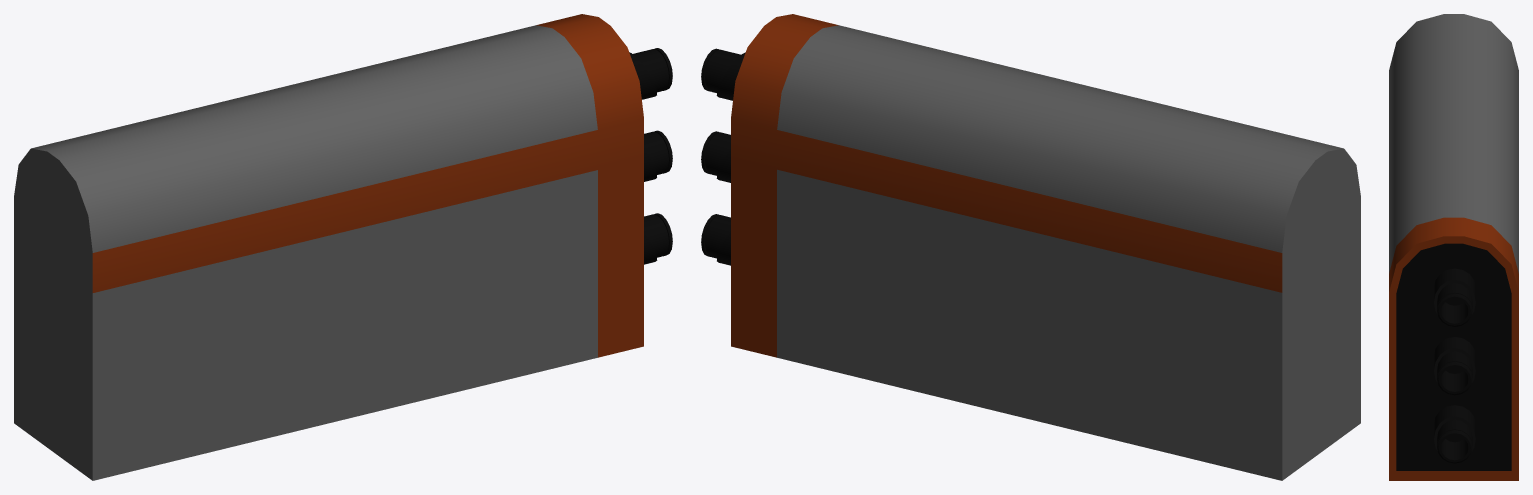
The model's file is Barrel_AR_1.obj.
The picture shows the model from 3 angles, left to right: view 1: azimuth 30°, elevation 25°; view 2: azimuth 150°, elevation 25°; view 3: azimuth 270°, elevation 25°; orthographic projection. The views are drawn at different scales.
Parts seen in each view (by area): view 1: Barrel_AR_1_Cube.239; view 2: Barrel_AR_1_Cube.239; view 3: Barrel_AR_1_Cube.239.
Part boxes in pixels (box(x1,y1,x2,y2)): Barrel_AR_1_Cube.239: box(14, 14, 672, 480); Barrel_AR_1_Cube.239: box(701, 14, 1360, 480); Barrel_AR_1_Cube.239: box(1389, 14, 1518, 480).
Size of the model in its own units: 0.5138 by 0.2384 by 0.1147.
